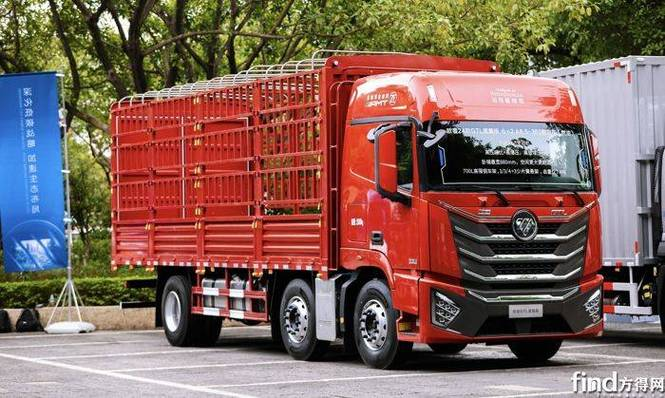卡车: (108, 52, 611, 368)
